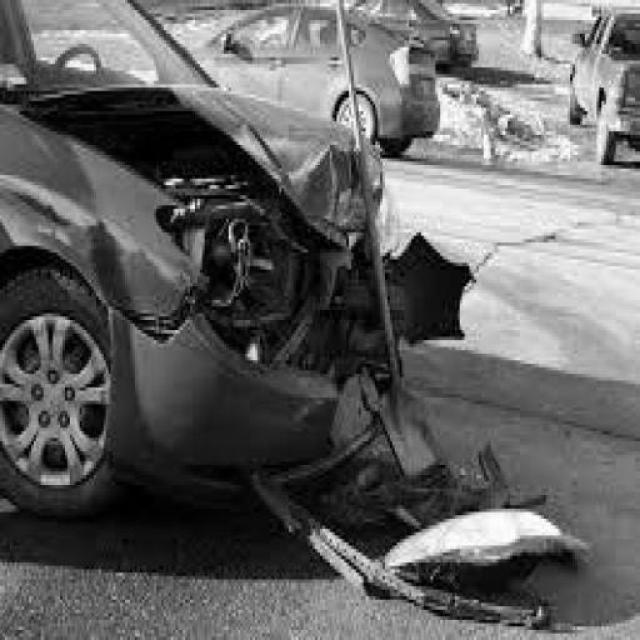crush: (9, 86, 401, 494)
